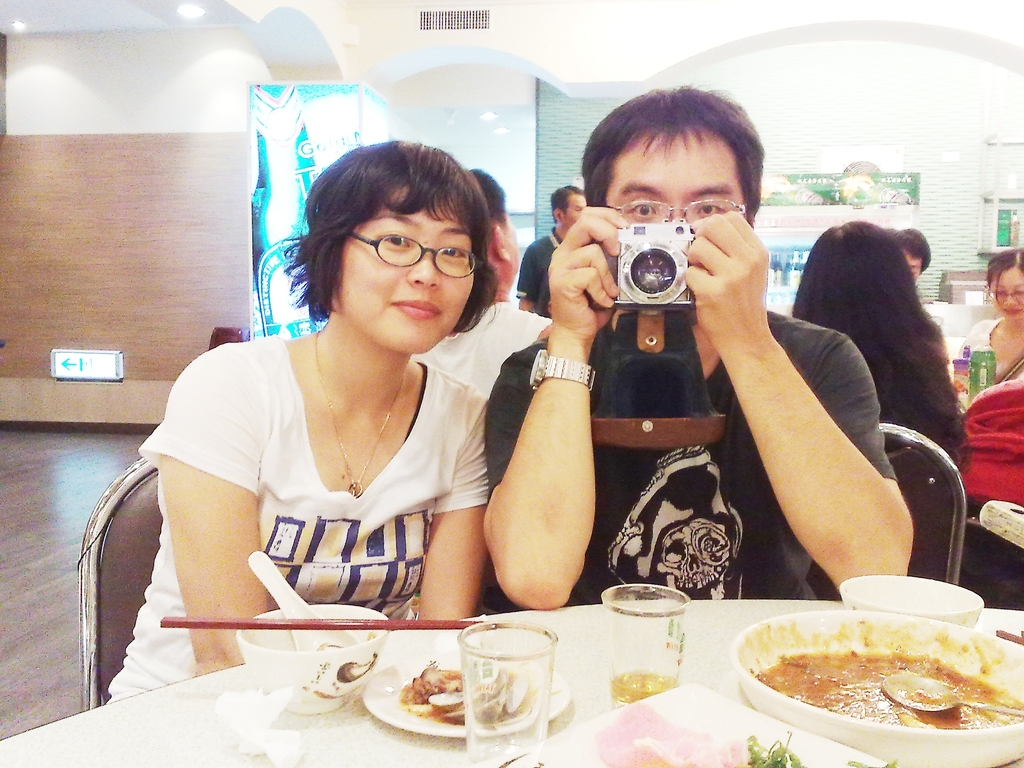Human_hand: (545, 203, 630, 335), (695, 201, 778, 335)
